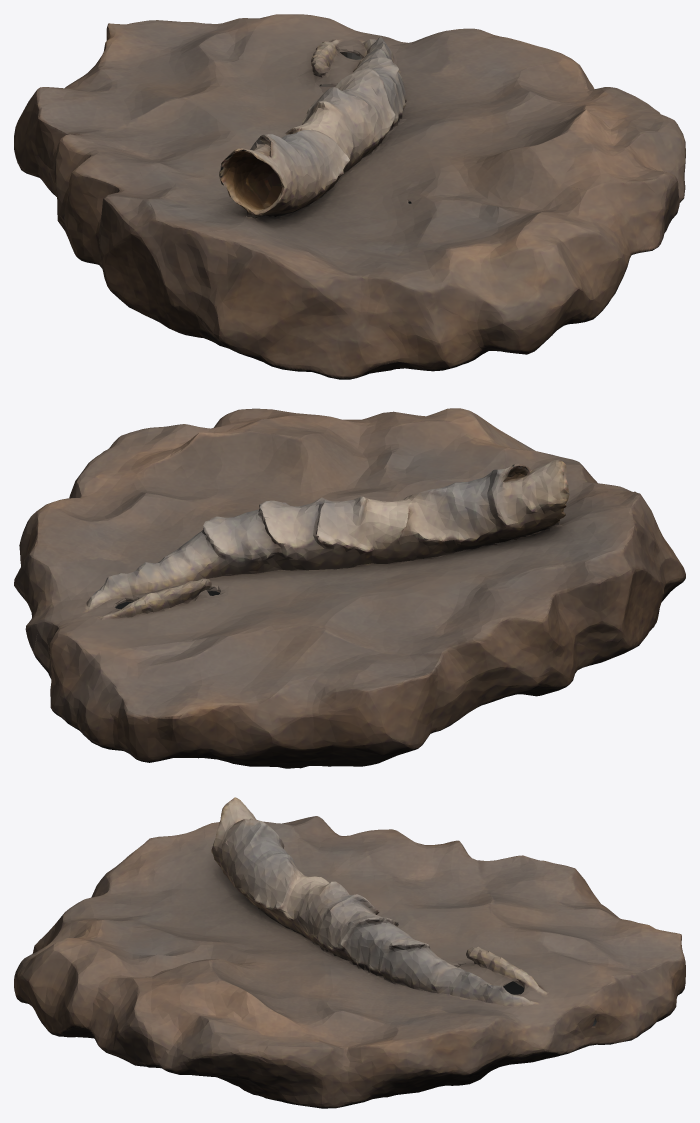
3 views of the same model, one above another, from view 1: azimuth 30°, elevation 25°; view 2: azimuth 150°, elevation 25°; view 3: azimuth 270°, elevation 25° (orthographic). The views are drawn at different scales.
Visible parts, largest first — view 1: world; view 2: world; view 3: world.
Boxes of the visible parts, left/top/right/bottom form: world: left=14, top=14, right=685, bottom=379; world: left=14, top=408, right=685, bottom=768; world: left=14, top=797, right=685, bottom=1108.
Bounding box in the file's own units: 0.7962 × 0.2384 × 0.9924.
Materials: 1 (1 with a texture image).
